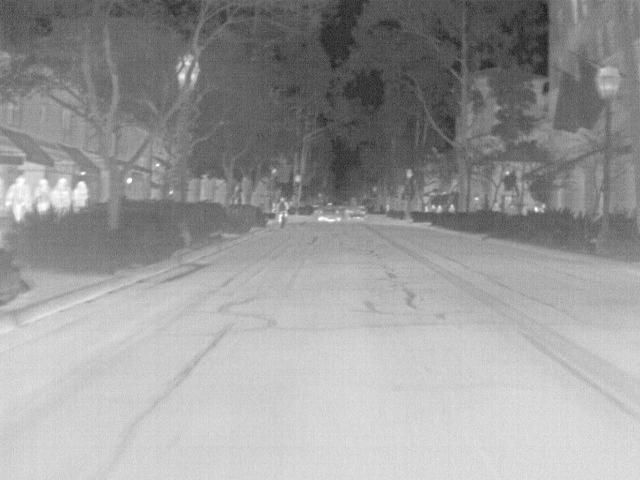car: (317, 205, 341, 224), (347, 204, 368, 218)
person: (10, 176, 31, 218), (51, 178, 71, 214), (70, 179, 91, 212), (34, 177, 52, 213), (276, 195, 290, 215), (423, 202, 431, 213), (436, 204, 444, 214), (430, 203, 437, 214), (449, 203, 456, 214)
